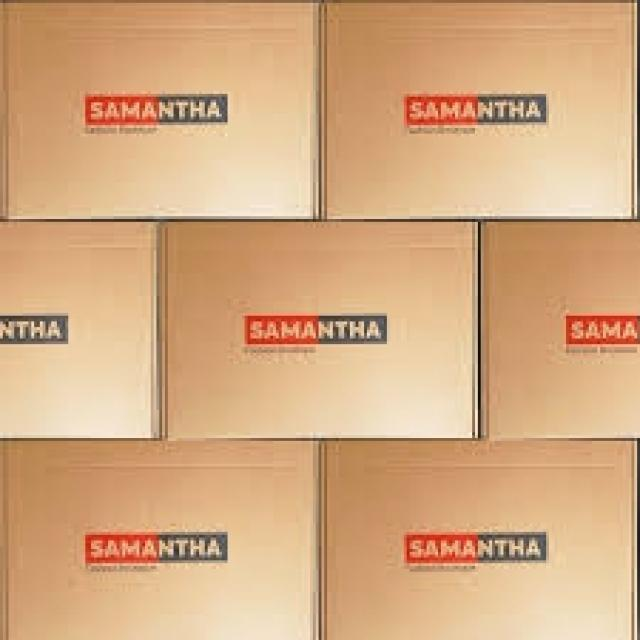cardboard paper: (0, 0, 316, 216), (165, 221, 474, 436), (325, 2, 633, 216), (0, 439, 315, 638), (324, 439, 634, 638), (481, 221, 638, 437), (0, 221, 156, 436)
